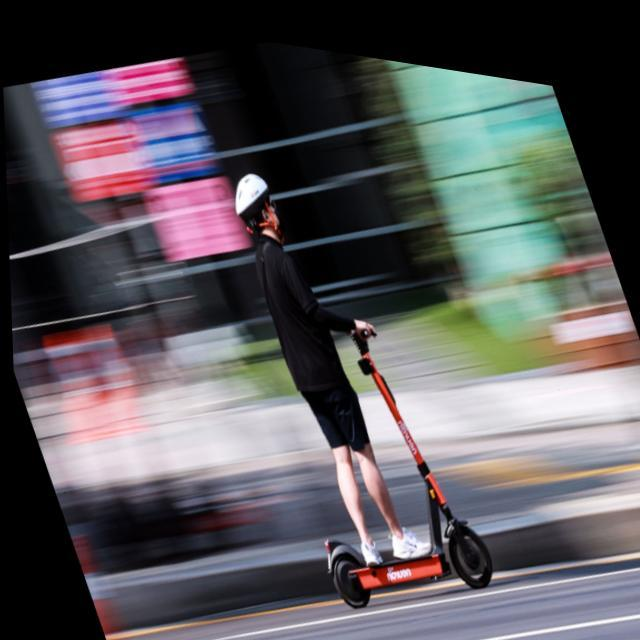Helmet: (223, 167, 283, 241)
